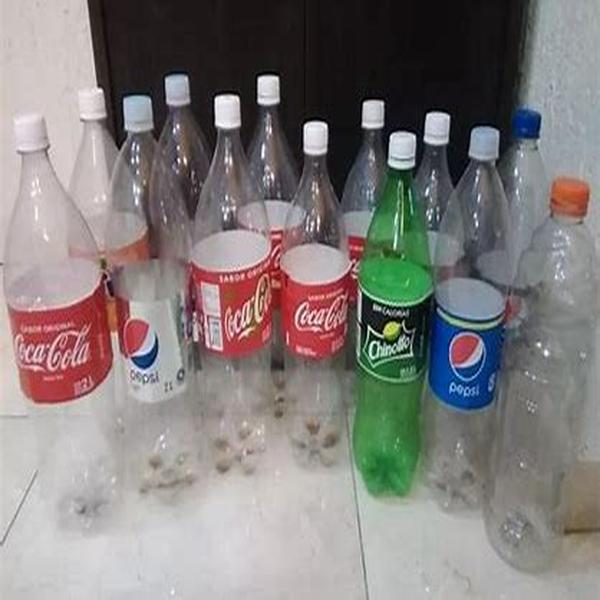tutuma: (2, 107, 114, 556), (193, 87, 273, 482), (354, 127, 434, 513), (439, 124, 507, 522), (279, 116, 350, 484)
